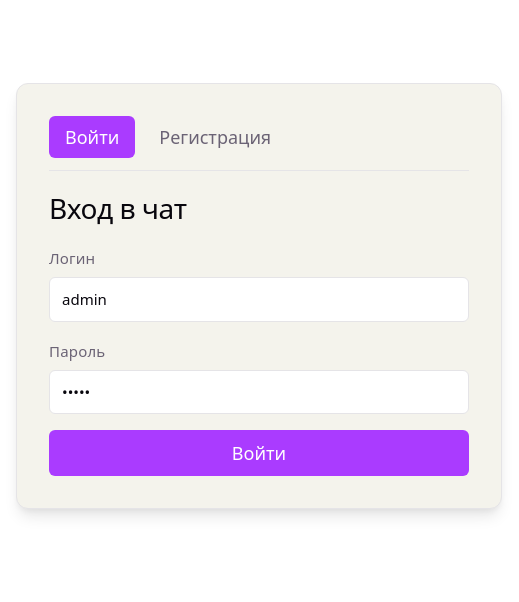
App › registration › rejects a password shorter than 3 characters
The width and height of the screenshot is (519, 602).
Click the button "Регистрация" at x=215, y=137, box [143,116,287,158]
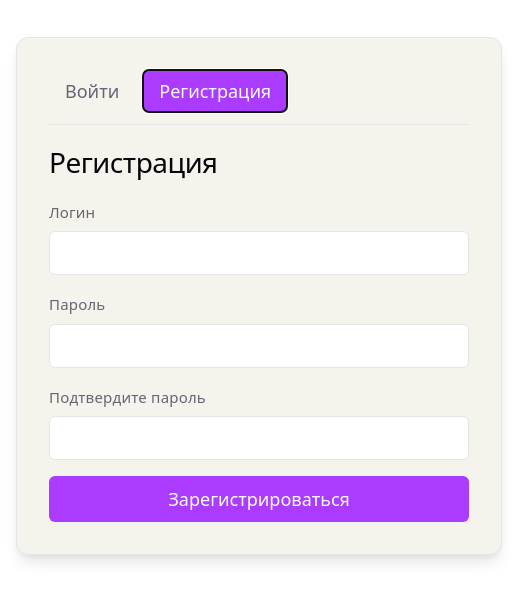
Type "newbie" into the field labelled "Логин" at x=259, y=253, box [49,231,469,276]
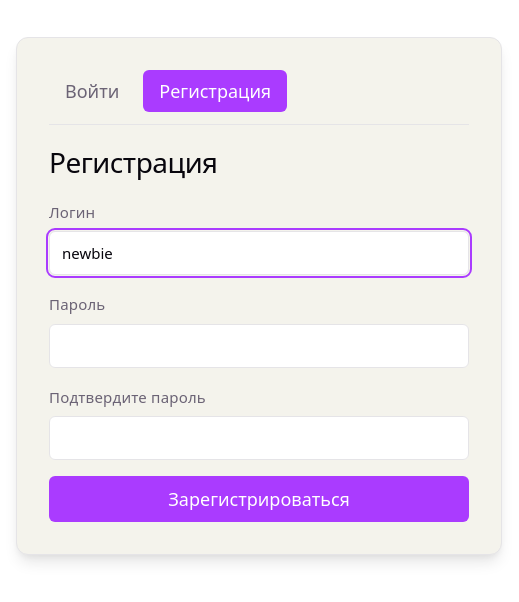
Type "ab" into the password field labelled "Пароль" at x=259, y=346, box [49,324,469,368]
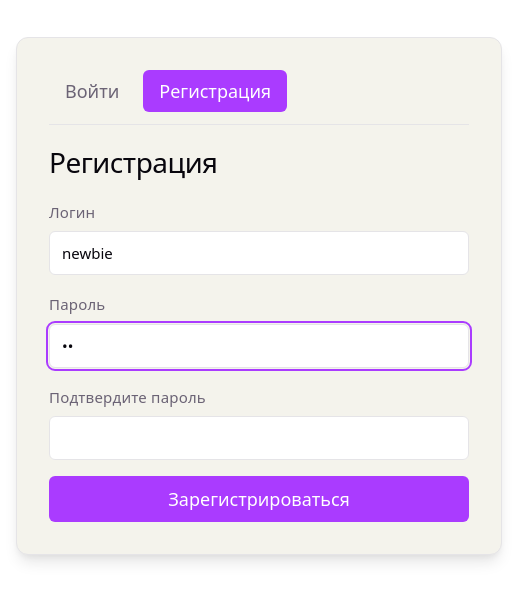
Type "ab" into the password field labelled "Подтвердите пароль" at x=259, y=438, box [49,416,469,460]
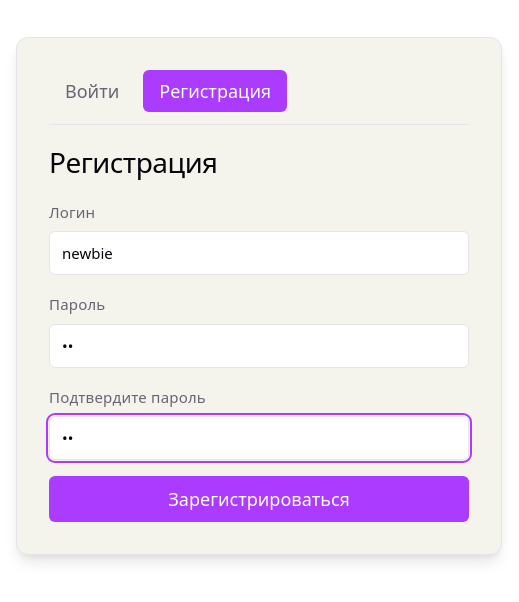
Click the button "Зарегистрироваться" at x=259, y=499, box [49,476,469,522]
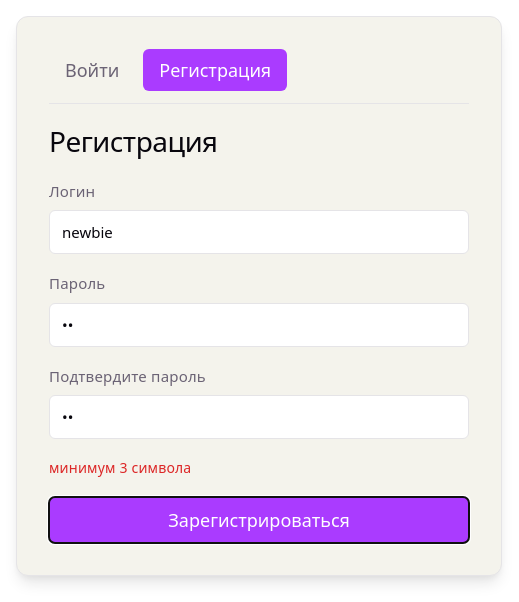
Check: the text "минимум 3 символа" is shown, box [49,458,191,477]
